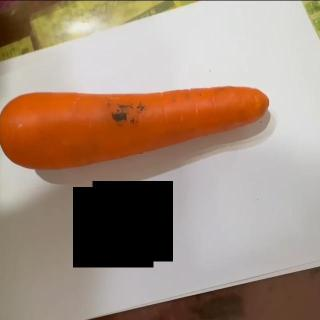carrot: (0, 84, 273, 170)
